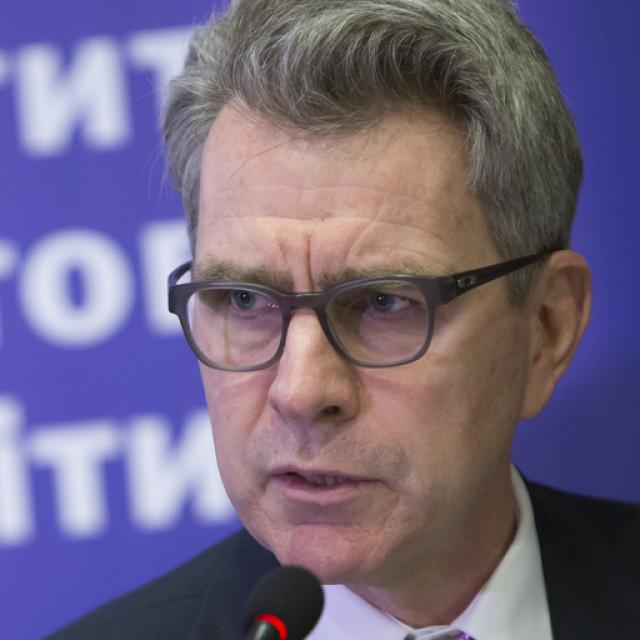Wrinkle: (200, 209, 452, 250), (213, 182, 428, 212), (367, 239, 449, 272)
